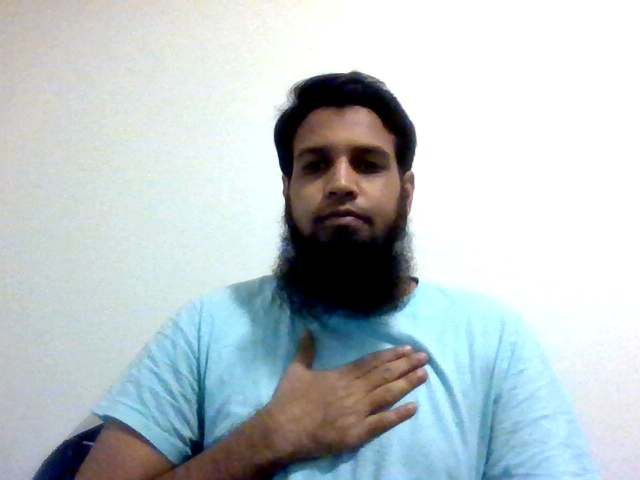please: (264, 322, 434, 457)
